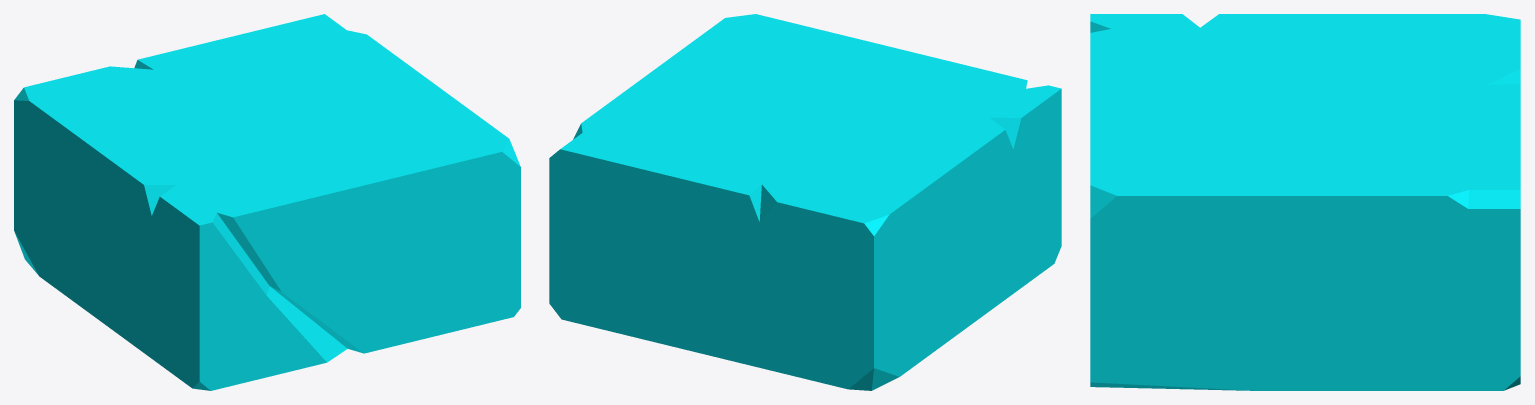
The model's file is bitcoin.glb.
3 views of the same model, side by side, from view 1: azimuth 30°, elevation 25°; view 2: azimuth 150°, elevation 25°; view 3: azimuth 270°, elevation 25° (orthographic). The views are drawn at different scales.
Visible parts, largest first — view 1: CoinBox; view 2: CoinBox; view 3: CoinBox.
Boxes of the visible parts, x1=… form: CoinBox: x1=14, y1=14, x2=520, y2=390; CoinBox: x1=549, y1=14, x2=1061, y2=390; CoinBox: x1=1090, y1=14, x2=1520, y2=390.
Size of the model in its own units: 2 by 1 by 2.
